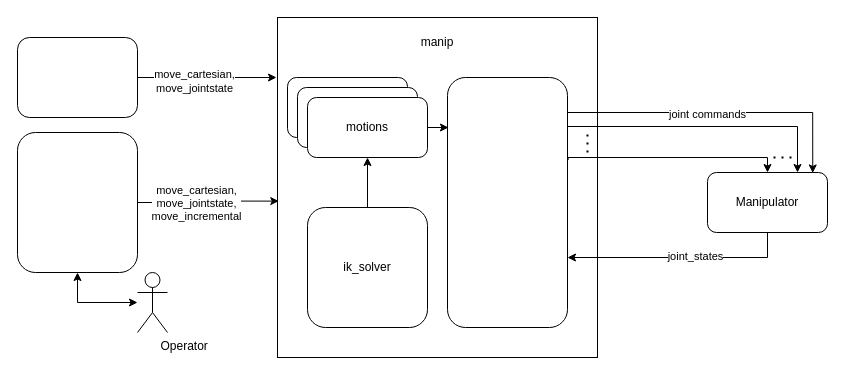
Some shapes in this 845 by 386 pixel diagram are drawn without their labels. The centre of each missing label's shape, as x and y in pixels:
"Autonomy" goes at point (77, 77).
"manip_controller" goes at point (77, 202).
"manip_interface" goes at point (507, 202).
